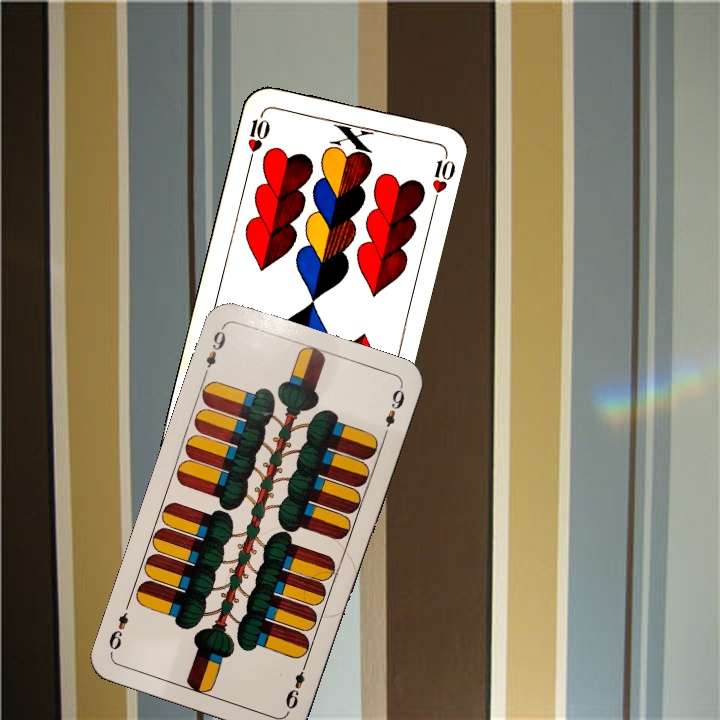E9: (199, 323, 229, 380), (281, 657, 310, 715)
H10: (243, 107, 273, 165)
